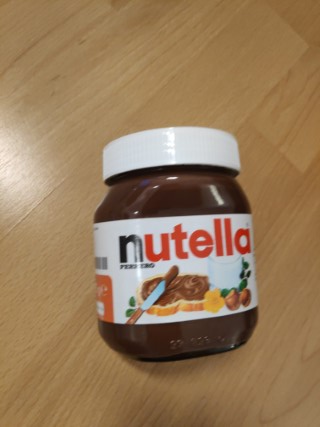nutella: (92, 124, 262, 362)
